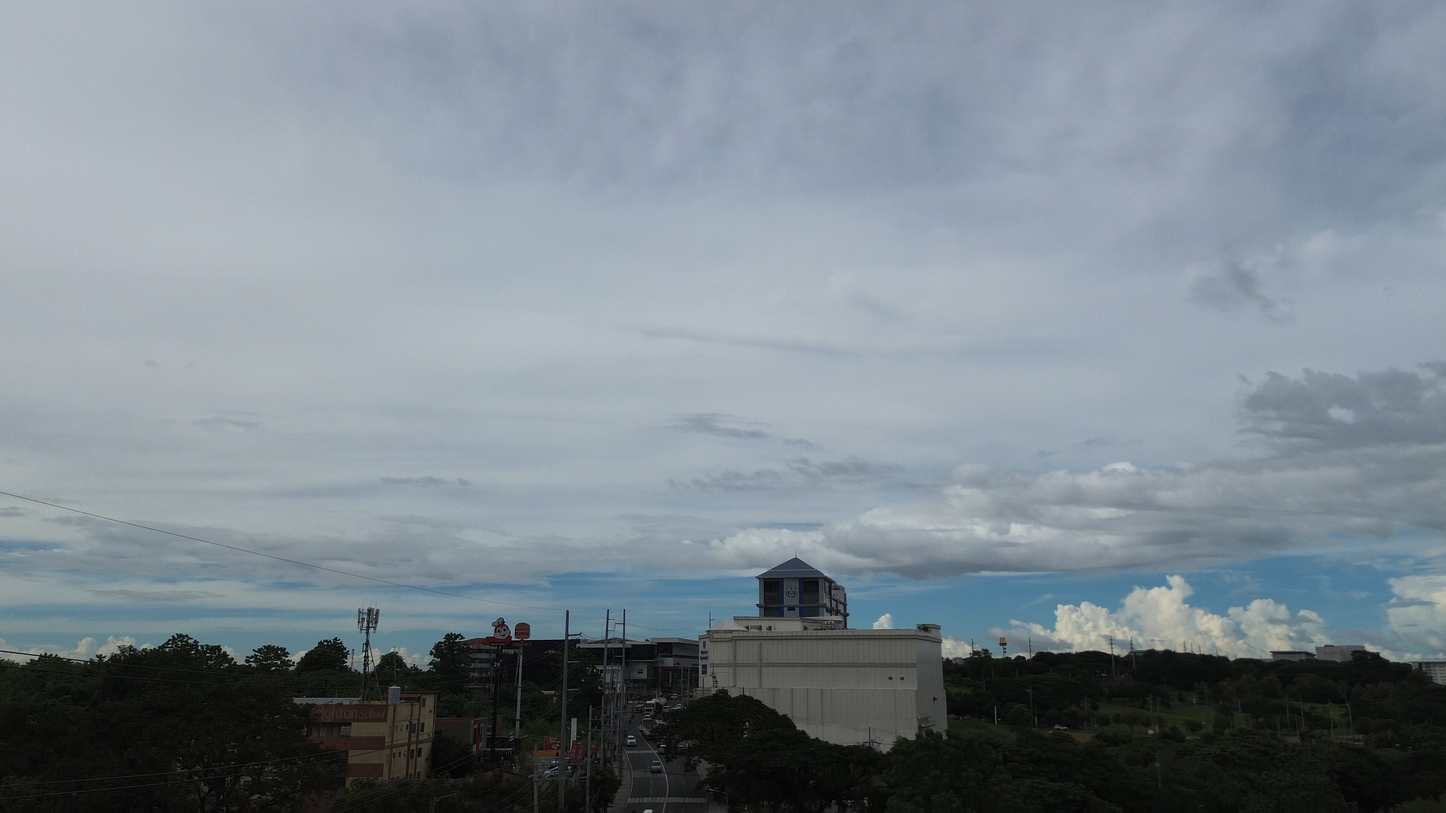car: (649, 760, 664, 773), (625, 734, 637, 746), (1053, 724, 1069, 731)
